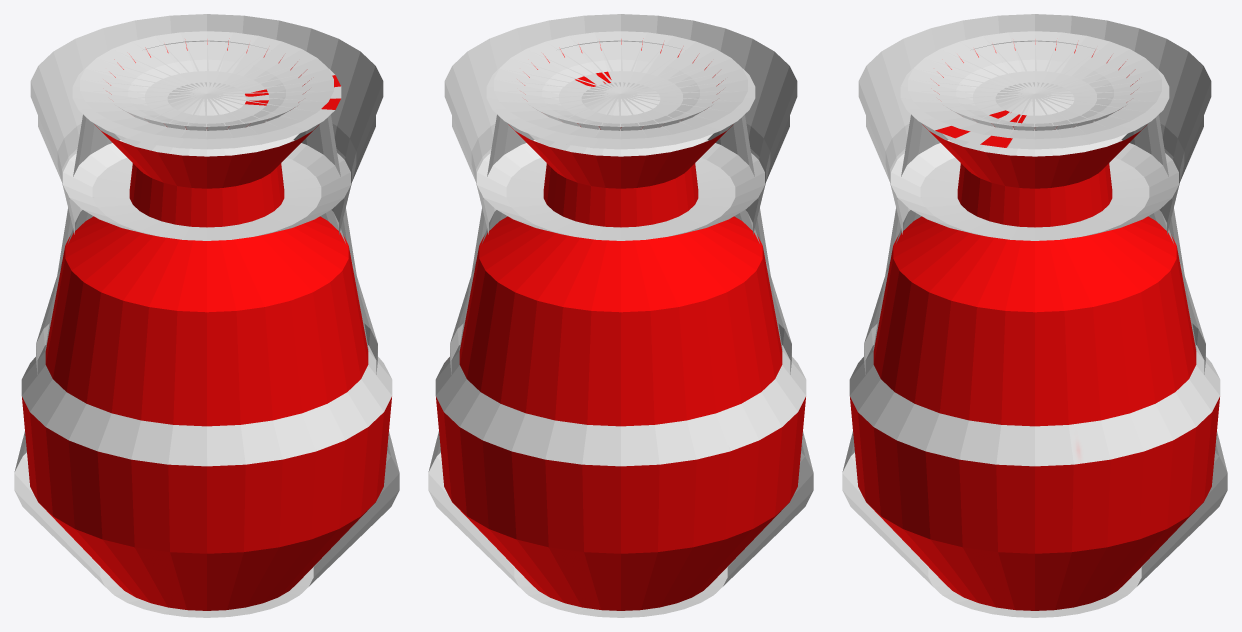
3 renders of one model, left to right at view 1: azimuth 30°, elevation 25°; view 2: azimuth 150°, elevation 25°; view 3: azimuth 270°, elevation 25°, orthographic.
Parts seen in each view (by area): view 1: algeomath; view 2: algeomath; view 3: algeomath.
Part boxes in pixels (x1,y1,x2,y2): algeomath: (14, 14, 399, 617); algeomath: (428, 14, 813, 617); algeomath: (842, 14, 1227, 617).
Size of the model in its own units: 6.3 by 9.06 by 6.26.
Materials: 1 (1 with a texture image).
